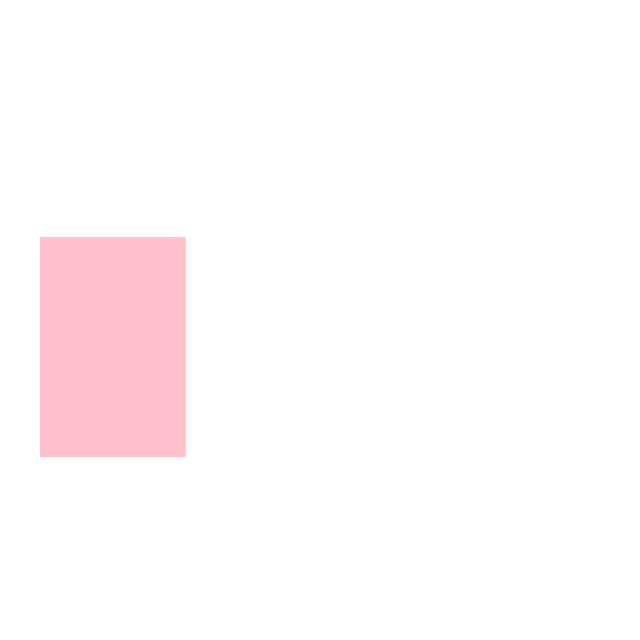Rectangle: (34, 218, 206, 483)
